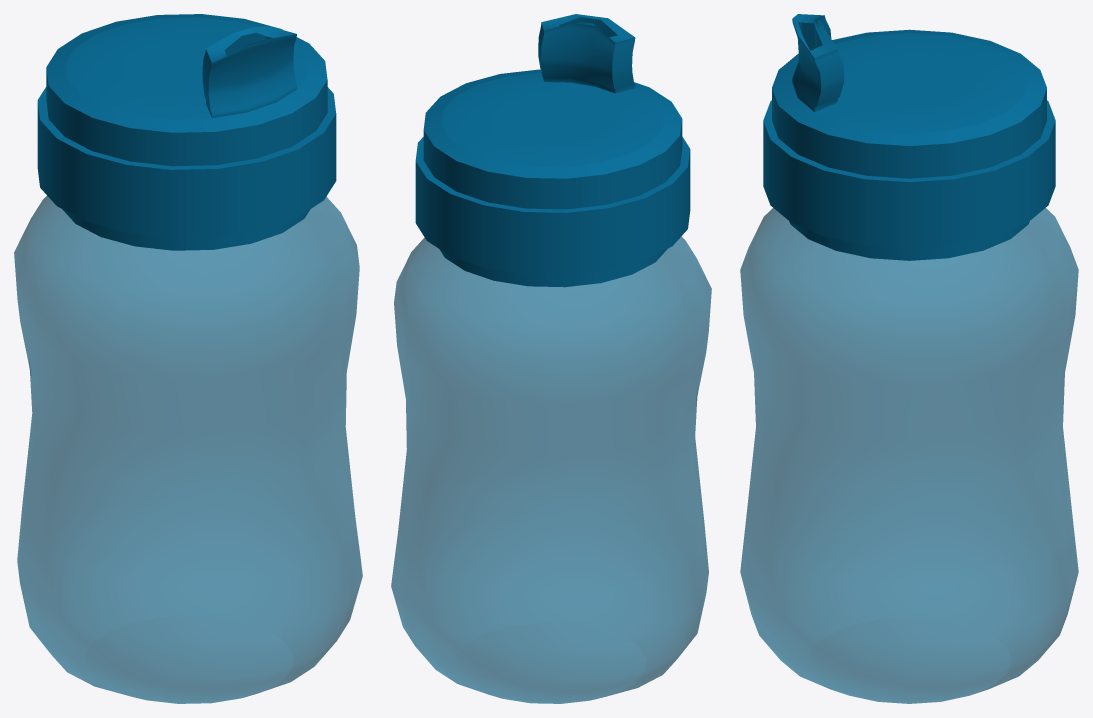
The model's file is Baby Sipper Fbx.fbx.
The picture shows the model from 3 angles, left to right: view 1: azimuth 30°, elevation 25°; view 2: azimuth 150°, elevation 25°; view 3: azimuth 270°, elevation 25°; orthographic projection. The views are drawn at different scales.
Visible parts, largest first — view 1: polySurface3; view 2: polySurface3; view 3: polySurface3.
Part boxes in pixels (box(x1,y1,x2,y2)): polySurface3: box(14, 14, 362, 703); polySurface3: box(391, 14, 711, 703); polySurface3: box(740, 14, 1078, 703).
Bounding box in the file's own units: 2.3 × 4.78 × 2.28.
